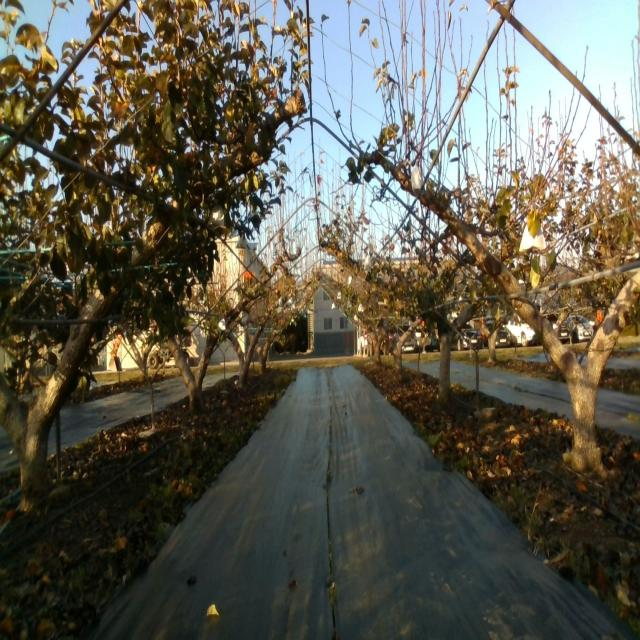pearbags: (518, 222, 547, 256), (208, 200, 225, 229), (410, 166, 422, 197)
